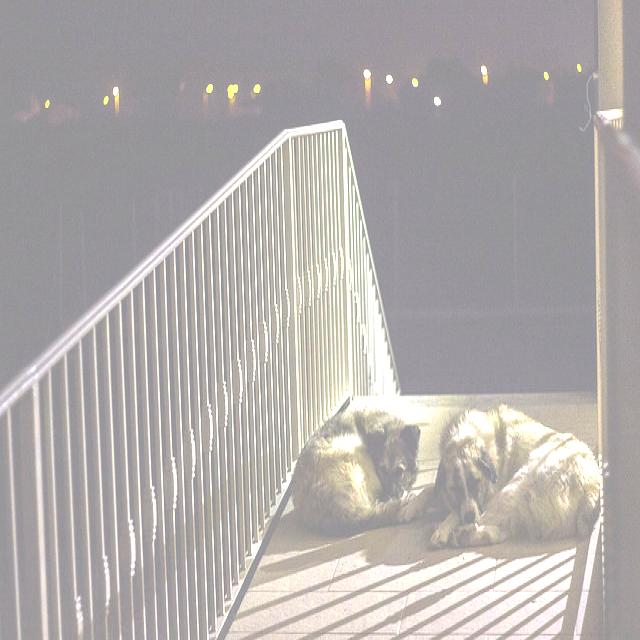Dog: (397, 404, 601, 545), (287, 401, 421, 528)
